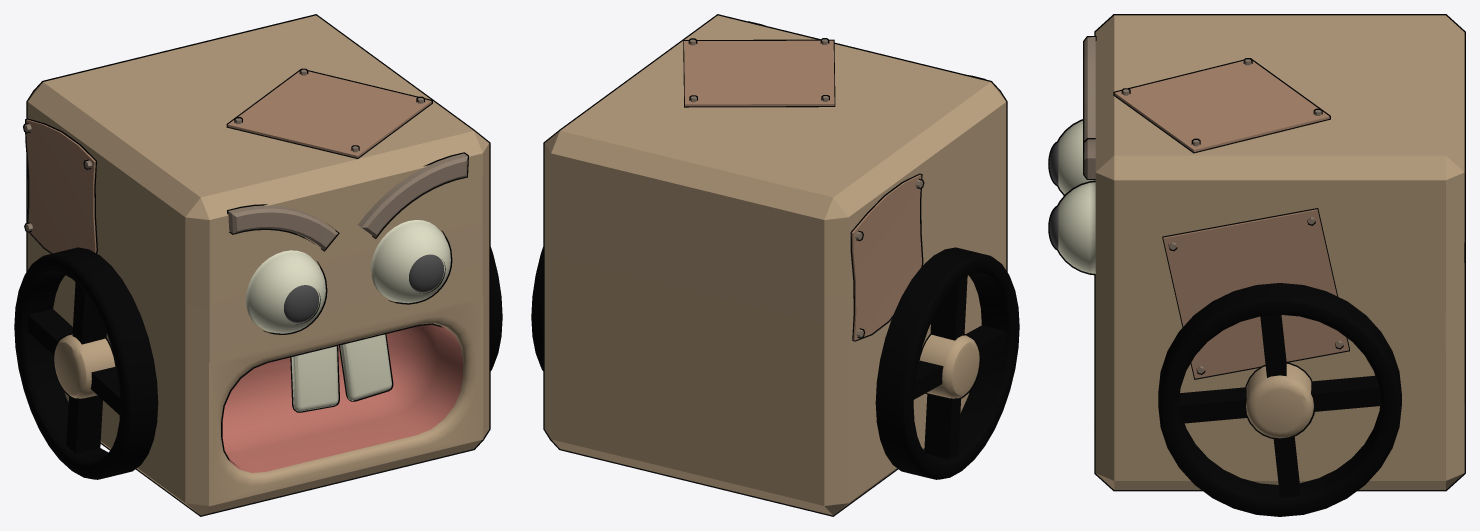
3 views of the same model, side by side, from view 1: azimuth 30°, elevation 25°; view 2: azimuth 150°, elevation 25°; view 3: azimuth 270°, elevation 25° (orthographic). The views are drawn at different scales.
Parts seen in each view (by area): view 1: 1, Wheel; view 2: 1, Wheel; view 3: 1, Wheel.
Part boxes in pixels (x1=…): 1: x1=23, y1=14, x2=490, y2=516; Wheel: x1=14, y1=247, x2=502, y2=479; 1: x1=543, y1=14, x2=1007, y2=516; Wheel: x1=531, y1=247, x2=1019, y2=479; 1: x1=1048, y1=14, x2=1465, y2=491; Wheel: x1=1158, y1=283, x2=1401, y2=516.
Bounding box in the file's own units: 252 × 205 × 225.
